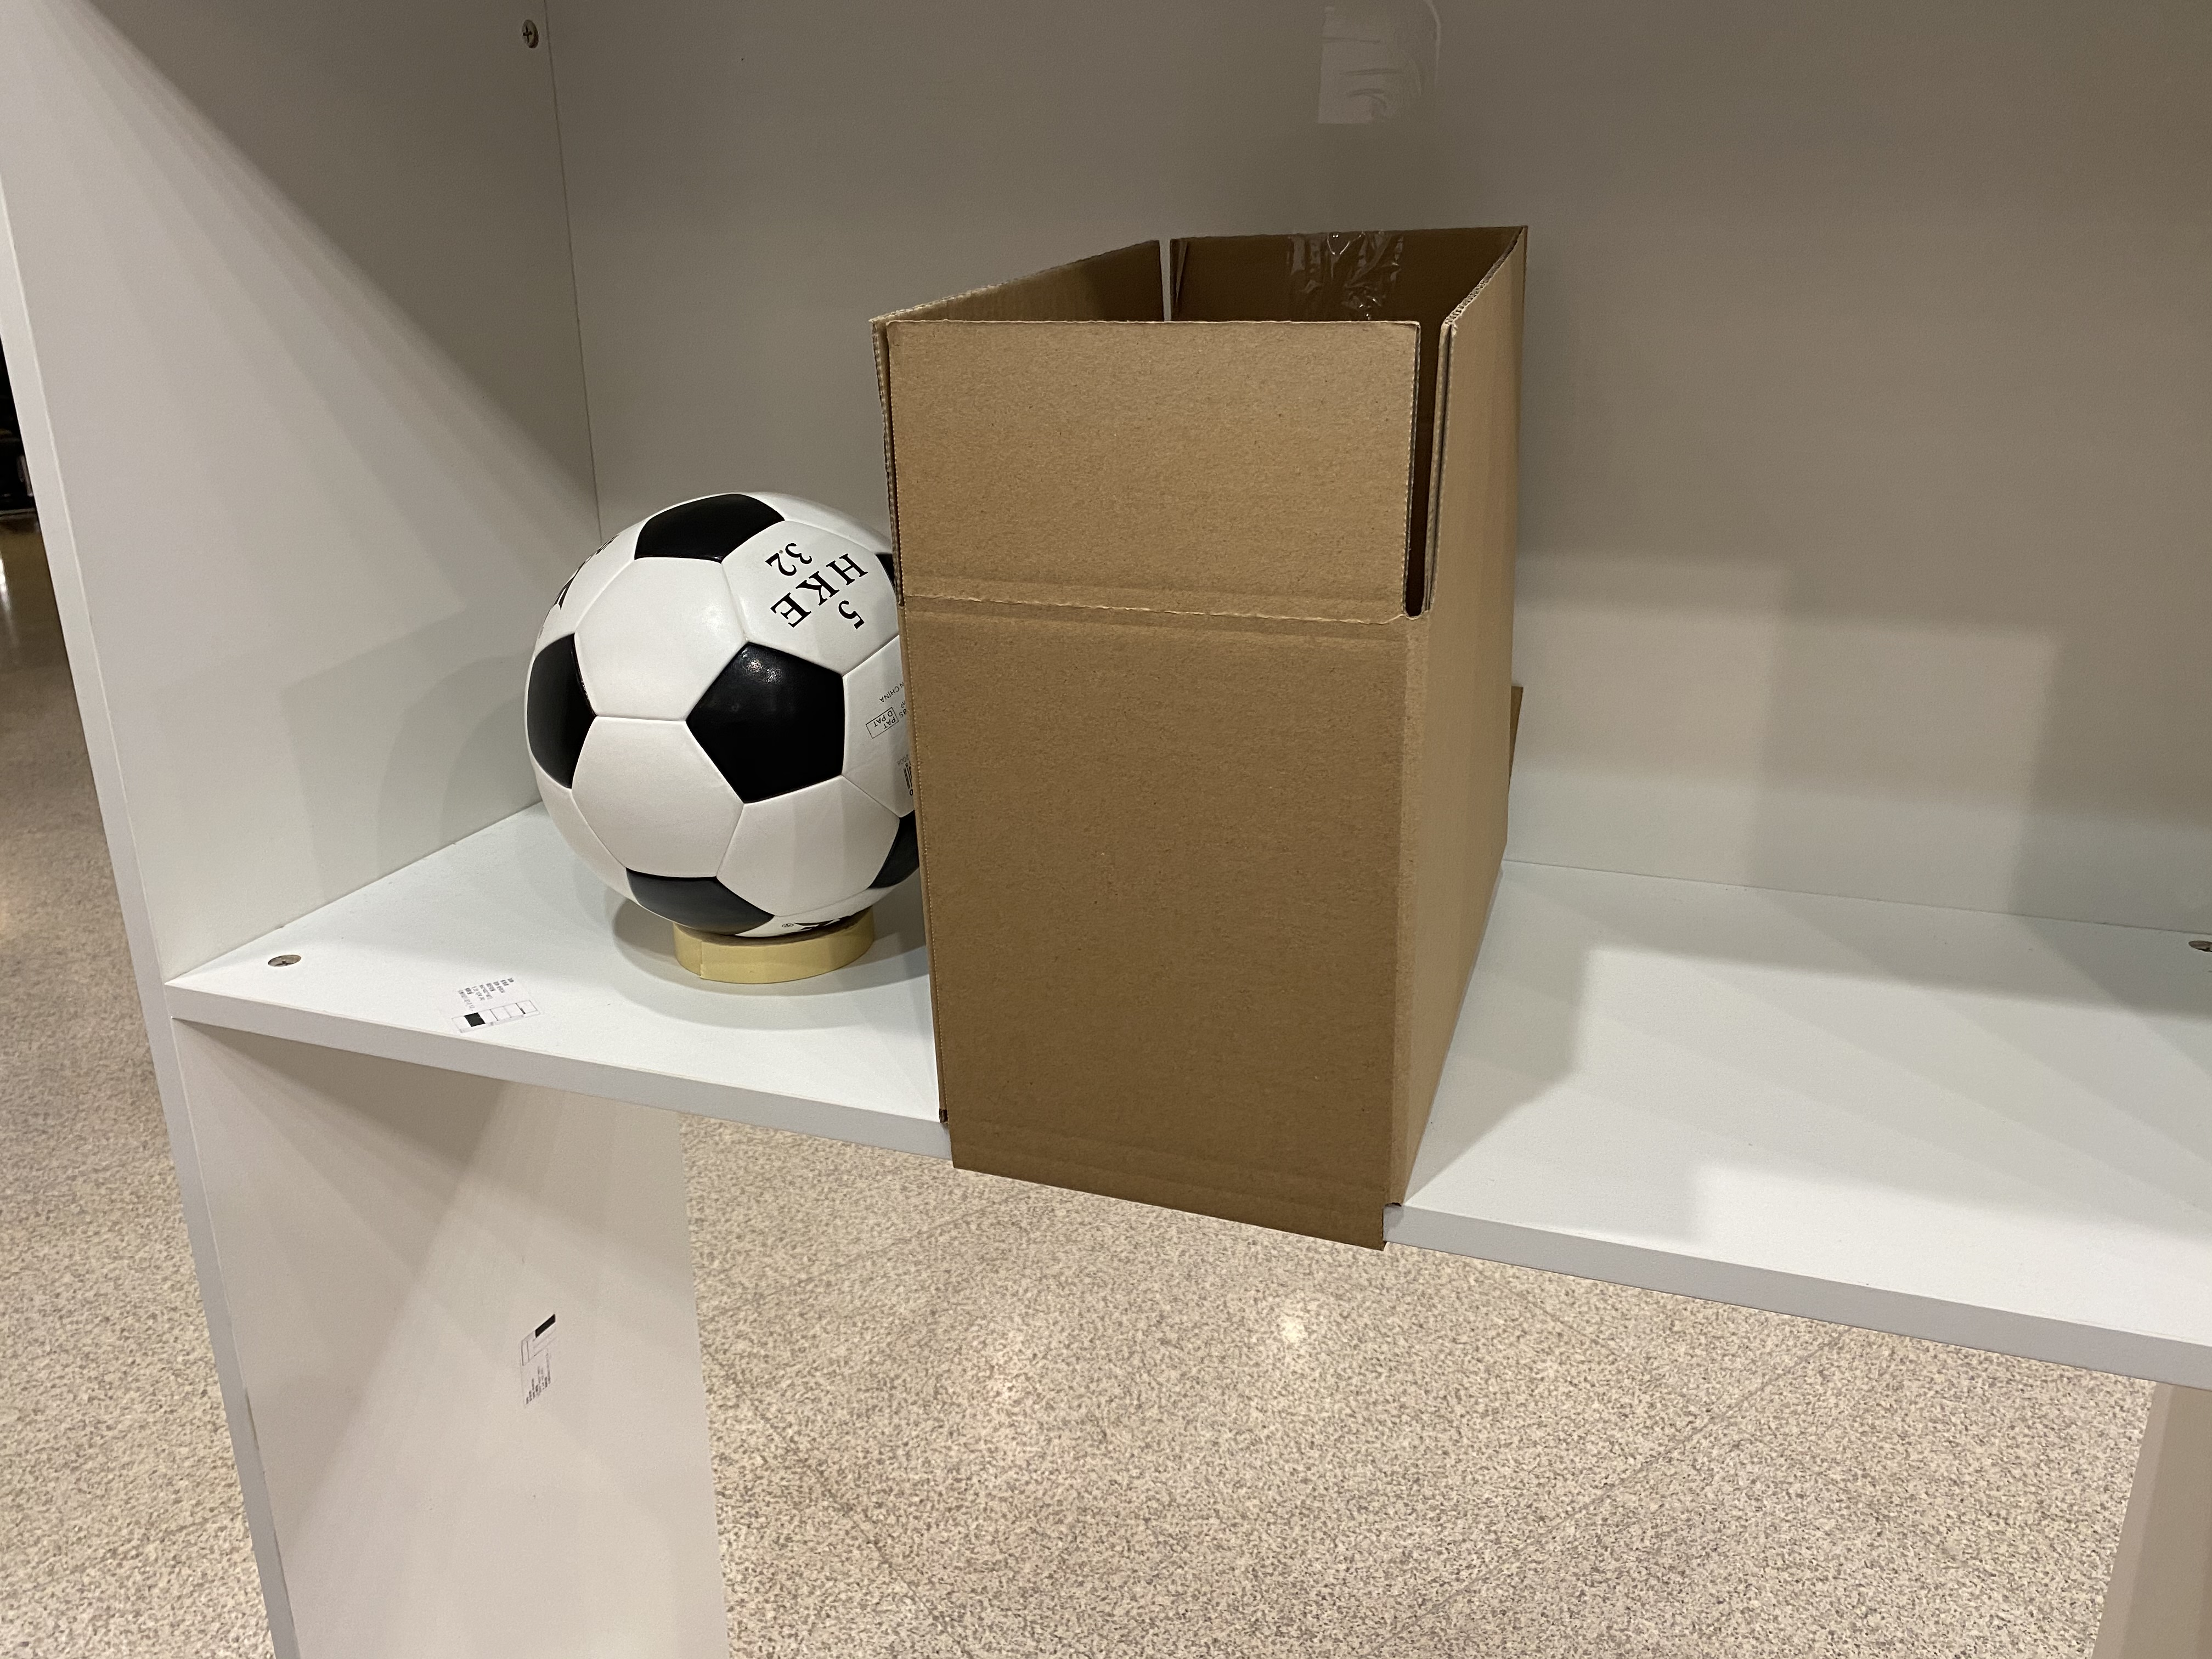football: (516, 481, 911, 927)
